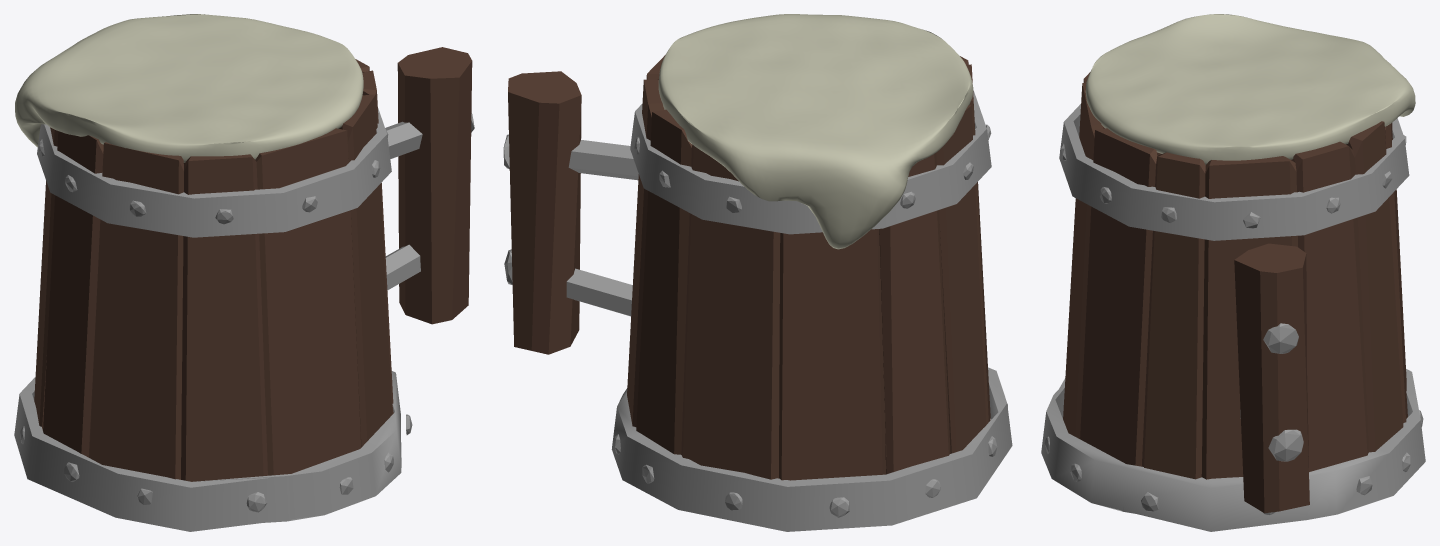
File: Boccale.fbx
The picture shows the model from 3 angles, left to right: view 1: azimuth 30°, elevation 25°; view 2: azimuth 150°, elevation 25°; view 3: azimuth 270°, elevation 25°; orthographic projection. The views are drawn at different scales.
Visible parts, largest first — view 1: Circle.064; view 2: Circle.064; view 3: Circle.064.
Part boxes in pixels (<box>): Circle.064: <box>14,14,474,531</box>; Circle.064: <box>503,14,1012,531</box>; Circle.064: <box>1041,14,1425,531</box>.
Bounding box in the file's own units: 29.83 × 23.4 × 22.2.
